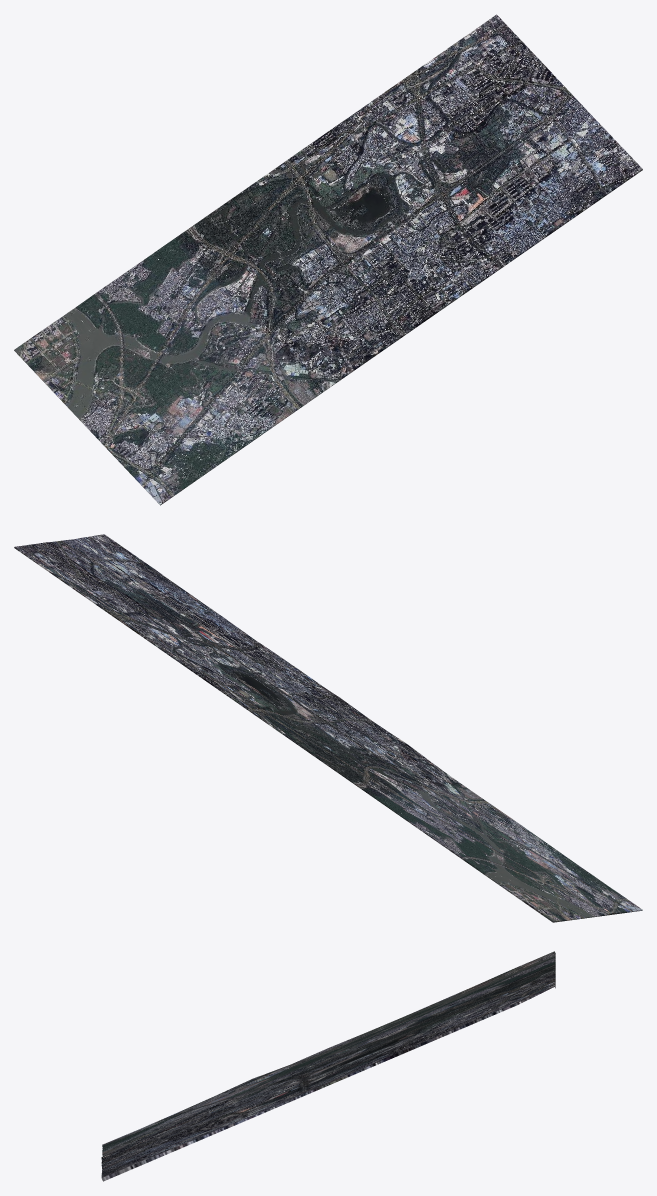
3 renders of one model, top to bottom at view 1: azimuth 30°, elevation 25°; view 2: azimuth 150°, elevation 25°; view 3: azimuth 270°, elevation 25°, orthographic. The views are drawn at different scales.
Parts seen in each view (by area): view 1: 4_1_1; view 2: 4_1_1; view 3: 4_1_1.
Part boxes in pixels (box(x1,y1,x2,y2)): 4_1_1: box(14, 14, 642, 505); 4_1_1: box(14, 534, 642, 922); 4_1_1: box(101, 951, 555, 1181).
Size of the model in its own units: 8843 by 4894 by 3371.
Materials: 1 (1 with a texture image).
